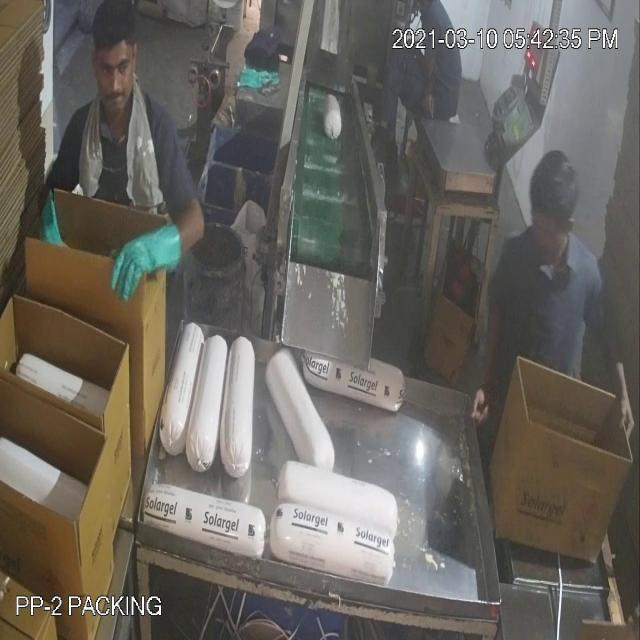No_Gloves: (40, 116, 618, 388)
